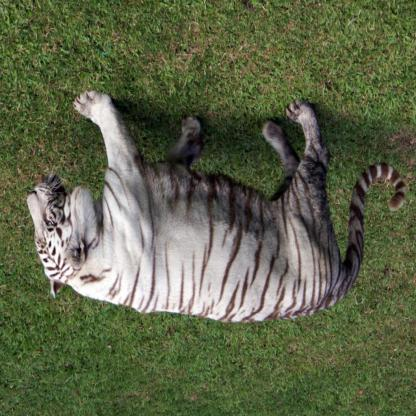tiger: (22, 176, 96, 302)
